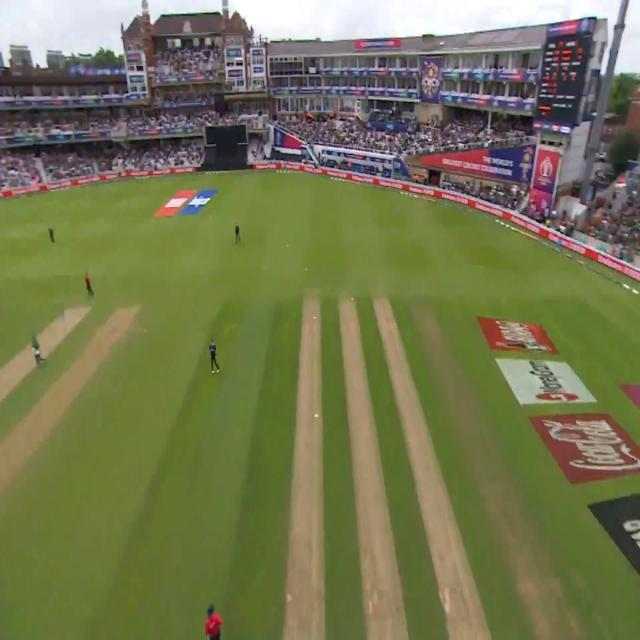ball: (345, 287, 359, 312)
